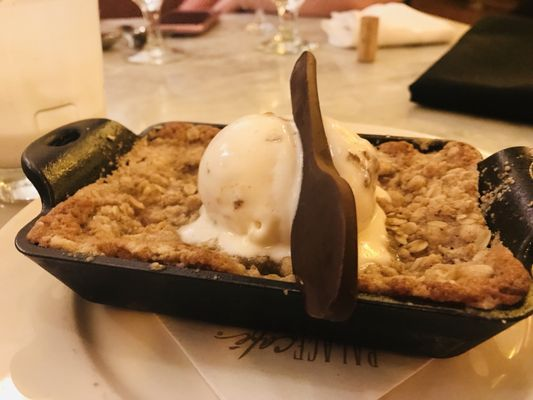pizza: (0, 0, 108, 182)
